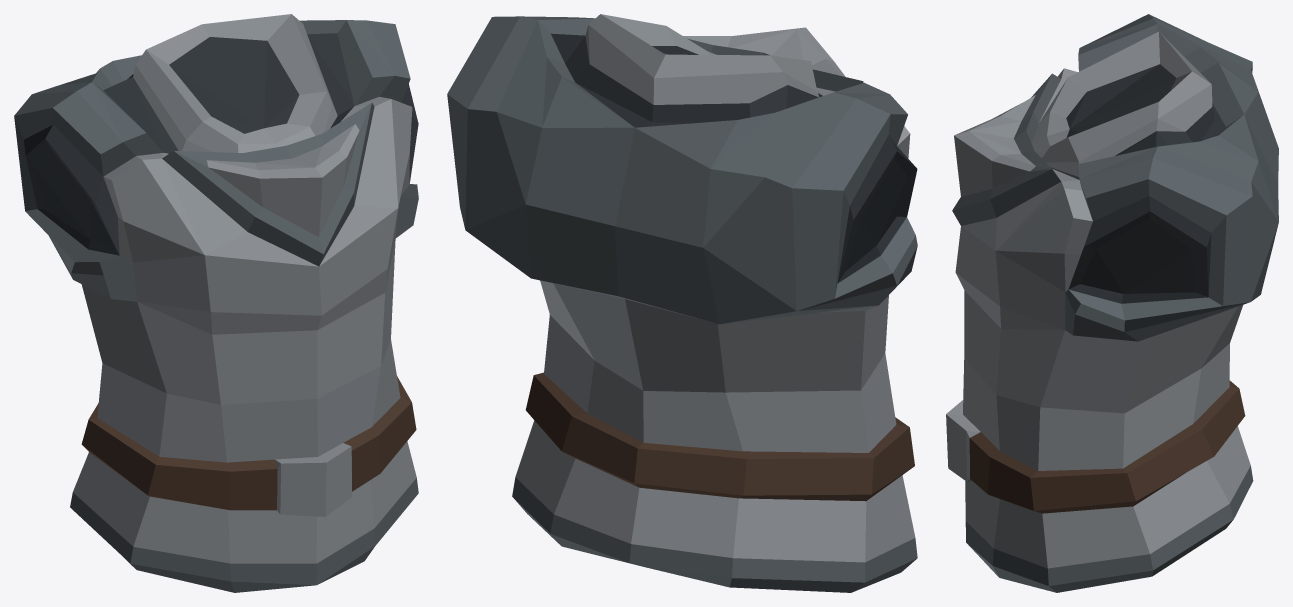
The model's file is Chr_Torso_Male_24_Static.fbx.
3 views of the same model, side by side, from view 1: azimuth 30°, elevation 25°; view 2: azimuth 150°, elevation 25°; view 3: azimuth 270°, elevation 25° (orthographic). The views are drawn at different scales.
Visible parts, largest first — view 1: Chr_Torso_Male_24_Static; view 2: Chr_Torso_Male_24_Static; view 3: Chr_Torso_Male_24_Static.
Part boxes in pixels (box(x1,y1,x2,y2)): Chr_Torso_Male_24_Static: box(14, 14, 418, 592); Chr_Torso_Male_24_Static: box(447, 14, 917, 592); Chr_Torso_Male_24_Static: box(946, 14, 1278, 592).
Bounding box in the file's own units: 0.502 × 0.6634 × 0.4124.
